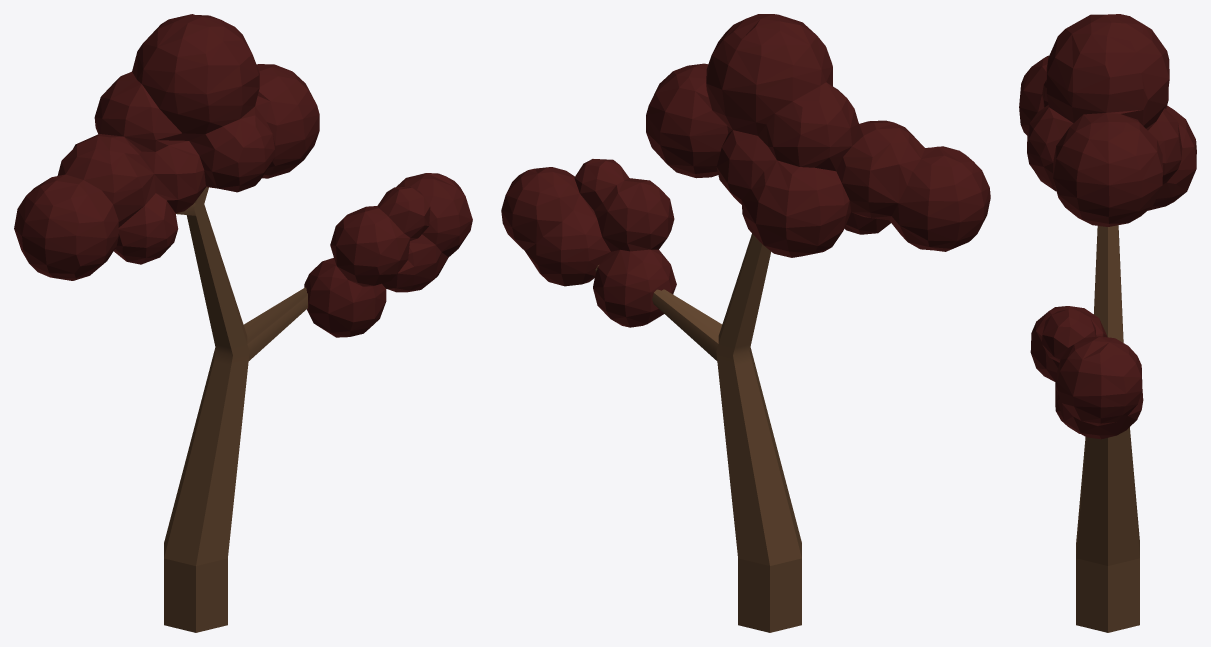
File: LP_Tree_Dark.fbx
The picture shows the model from 3 angles, left to right: view 1: azimuth 30°, elevation 25°; view 2: azimuth 150°, elevation 25°; view 3: azimuth 270°, elevation 25°; orthographic projection.
Parts seen in each view (by area): view 1: Upper_leaves1; view 2: Upper_leaves1; view 3: Upper_leaves1.
Boxes of the visible parts, x1,y1,x2,y2 form: Upper_leaves1: (14,14,472,632); Upper_leaves1: (501,14,990,632); Upper_leaves1: (1019,14,1196,632).
Bounding box in the file's own units: 2443 × 3026 × 815.
